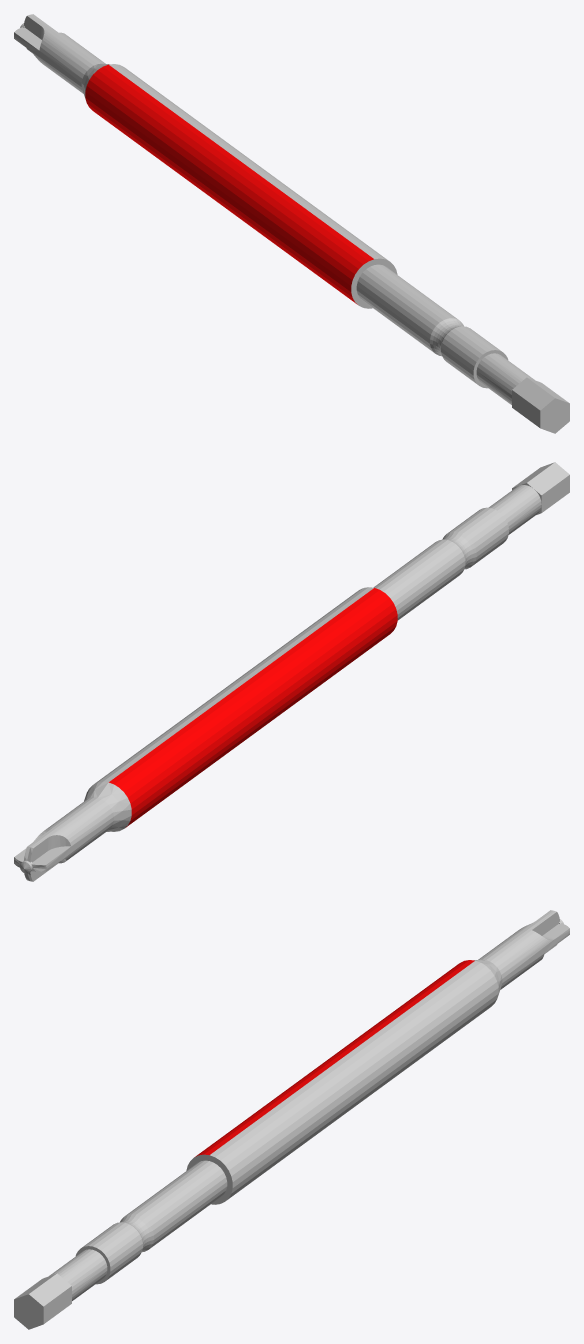
The model's file is HASTEDECHAVENEWPROMM1_5REV02__2__STEP_26.obj.
The picture shows the model from 3 angles, top to bottom: view 1: azimuth 30°, elevation 25°; view 2: azimuth 150°, elevation 25°; view 3: azimuth 330°, elevation 25°; orthographic projection.
Parts seen in each view (by area): view 1: Object1; view 2: Object1; view 3: Object1.
Part boxes in pixels (bbox=[...]): Object1: bbox=[14, 14, 569, 433]; Object1: bbox=[14, 462, 569, 881]; Object1: bbox=[14, 910, 569, 1329].
Size of the model in its own units: 3.77 by 3.8 by 74.75.
